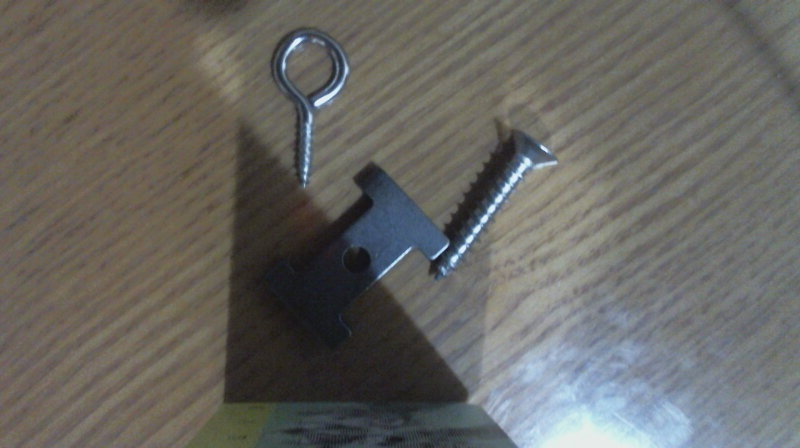O001: (265, 24, 354, 191)
O002: (257, 164, 451, 355)
S001: (428, 122, 563, 285)
